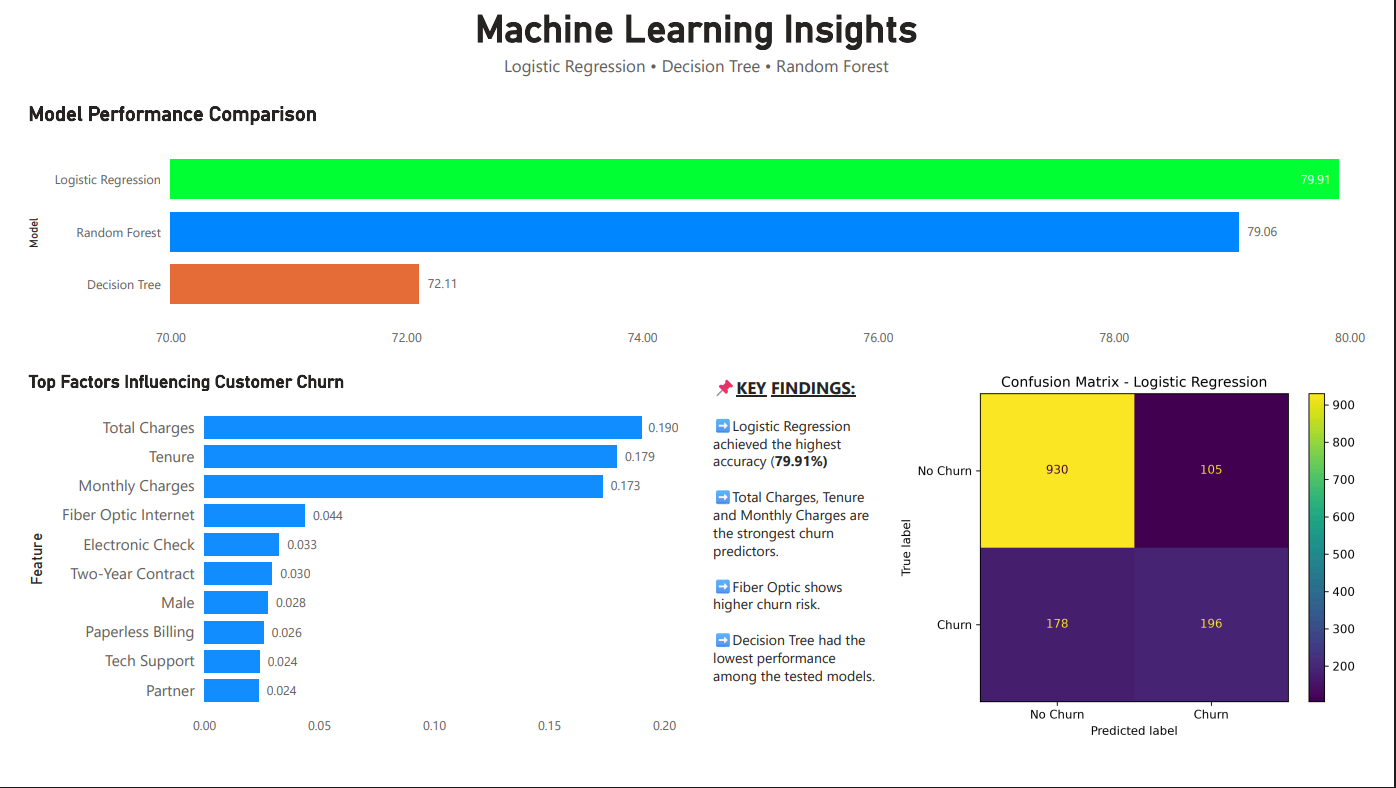

The page's visual inventory and layout, read from the dashboard file:
{"tool":"powerbi","page":{"name":"Machine Learning Insights","canvas":[1280,720],"ordinal":1},"visuals":[{"type":"textbox","title":"Machine Learning Insights","box":[273.6,0,731.9,68],"z":0},{"type":"clusteredBarChart","title":"Model Performance Comparison","fields":{"Category":["Model Accuracy.Model"],"Y":["Sum(Model Accuracy.Accuracy)"]},"box":[0,90.7,1280.8,242.9],"z":1},{"type":"clusteredBarChart","title":"Top Factors Influencing Customer Churn","fields":{"Category":["Feature Importance.Feature"],"Y":["Sum(Feature Importance.Importance)"]},"box":[0,346.5,639.6,356.2],"z":2},{"type":"image","box":[819.3,340,461.5,369.2],"z":3},{"type":"textbox","box":[650.9,346.5,168.4,356.2],"z":4}]}

Visuals, with their boxes in screenshot pixels (x1, y1, x2, y2), scaled from the page's 1280x720 canvas onto the 1396x788 screenshot:
"Machine Learning Insights" textbox: {"x1": 298, "y1": 0, "x2": 1097, "y2": 74}
"Model Performance Comparison" clusteredBarChart: {"x1": 0, "y1": 99, "x2": 1395, "y2": 365}
"Top Factors Influencing Customer Churn" clusteredBarChart: {"x1": 0, "y1": 379, "x2": 698, "y2": 769}
image: {"x1": 894, "y1": 372, "x2": 1395, "y2": 776}
textbox: {"x1": 710, "y1": 379, "x2": 894, "y2": 769}
